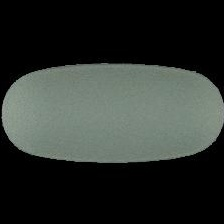60429-314: (0, 0, 224, 224)
